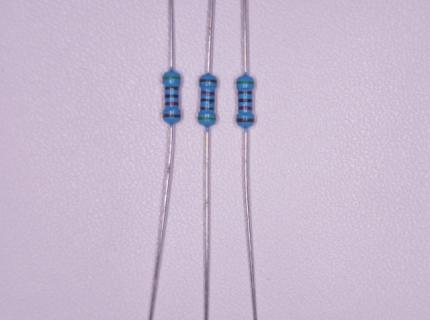Black band: (165, 94, 178, 98), (238, 99, 252, 102), (201, 99, 214, 102)
Brown band: (237, 118, 254, 122), (163, 114, 181, 117), (201, 107, 215, 110), (165, 87, 178, 90), (239, 91, 252, 94), (200, 80, 217, 82)
Green band: (198, 117, 215, 120), (237, 81, 253, 84), (163, 76, 179, 79)
Red band: (201, 91, 215, 95), (239, 106, 252, 110), (165, 102, 178, 105)
